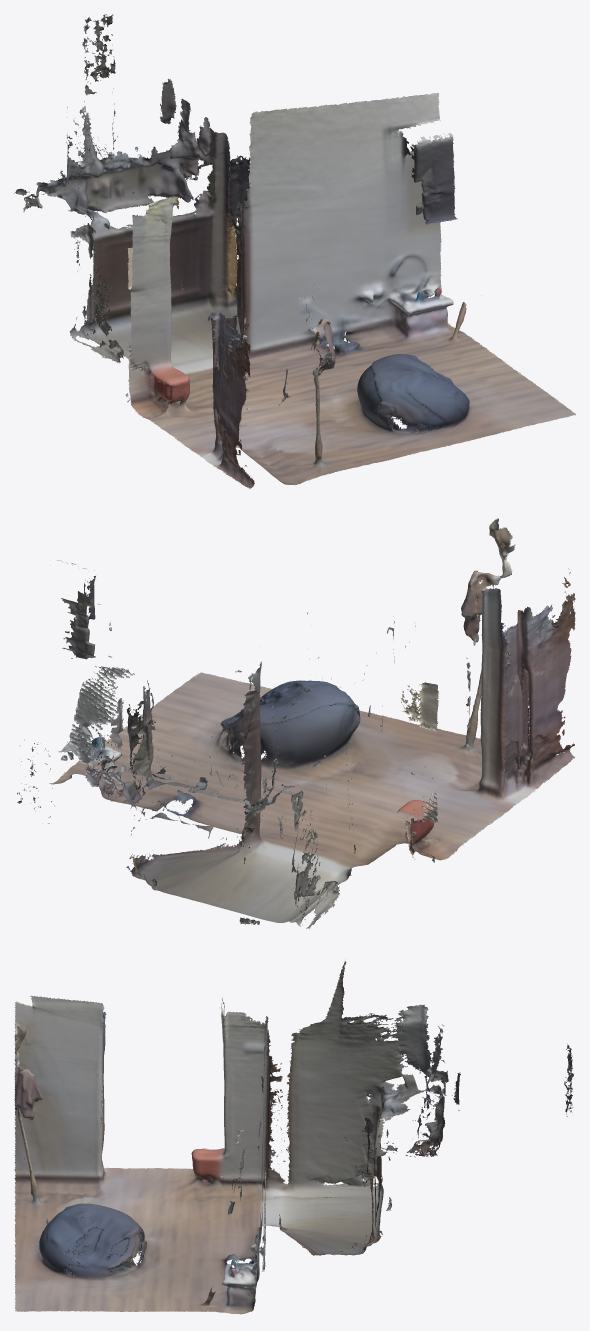
File: apartment-detail-4-d3c1db402278.glb
The picture shows the model from 3 angles, top to bottom: view 1: azimuth 30°, elevation 25°; view 2: azimuth 150°, elevation 25°; view 3: azimuth 270°, elevation 25°; orthographic projection. The views are drawn at different scales.
Size of the model in its own units: 3.09 by 2.42 by 5.13.
